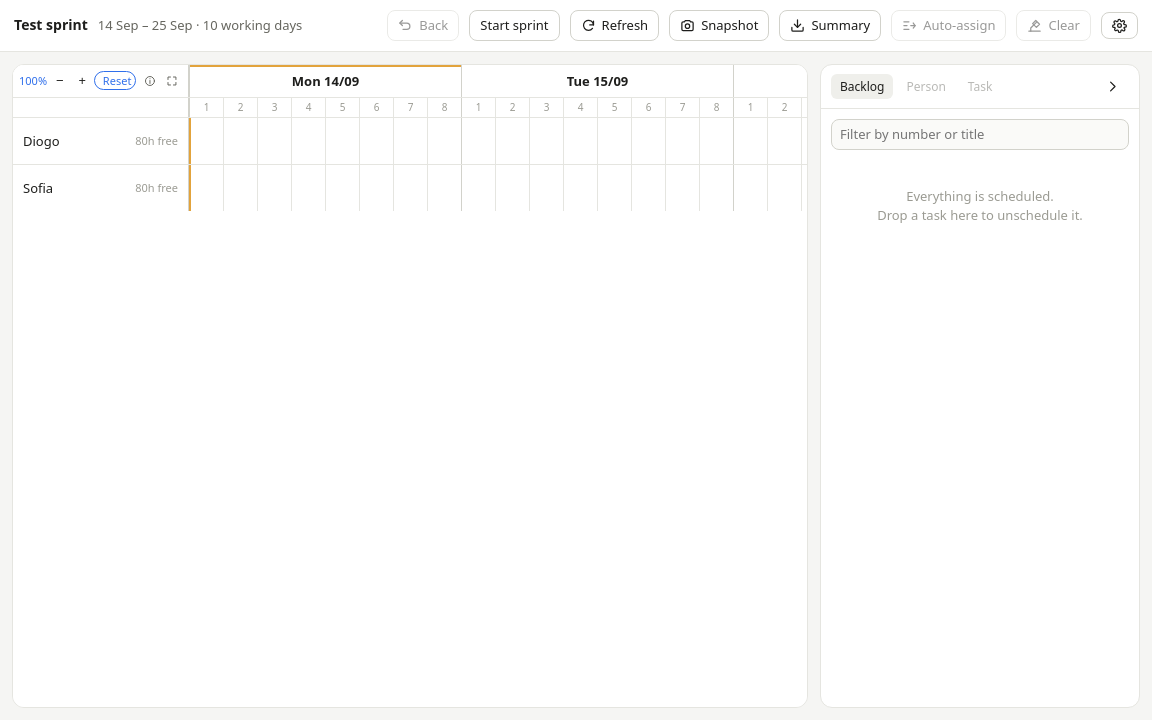
Test case: a refresh that fails › shows a ⚠ that opens the full details, and Copy details copies them
expect the text "Diogo" is shown: met, box 23,132 -> 60,151
Click the button "Refresh" at [614, 25], box 570,10 -> 659,41
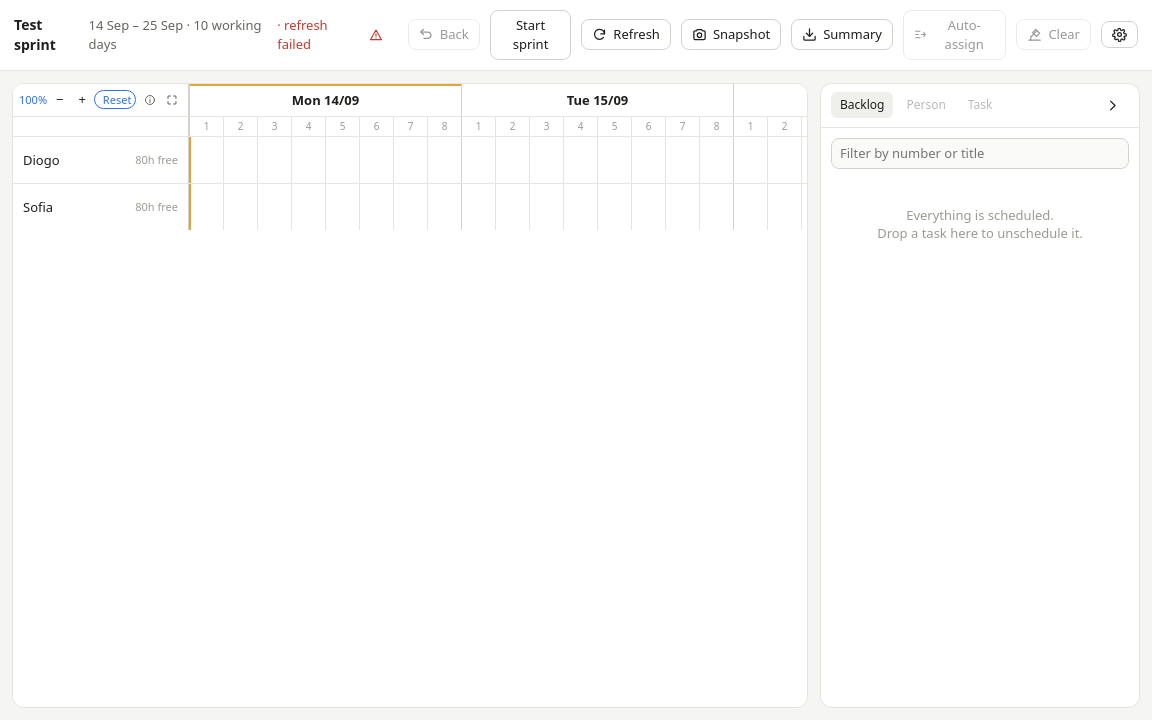
expect the text "· refresh failed" is shown: met, box 277,16 -> 328,53
Click the button named "Why the refresh failed" at [376, 35], box 364,25 -> 388,45
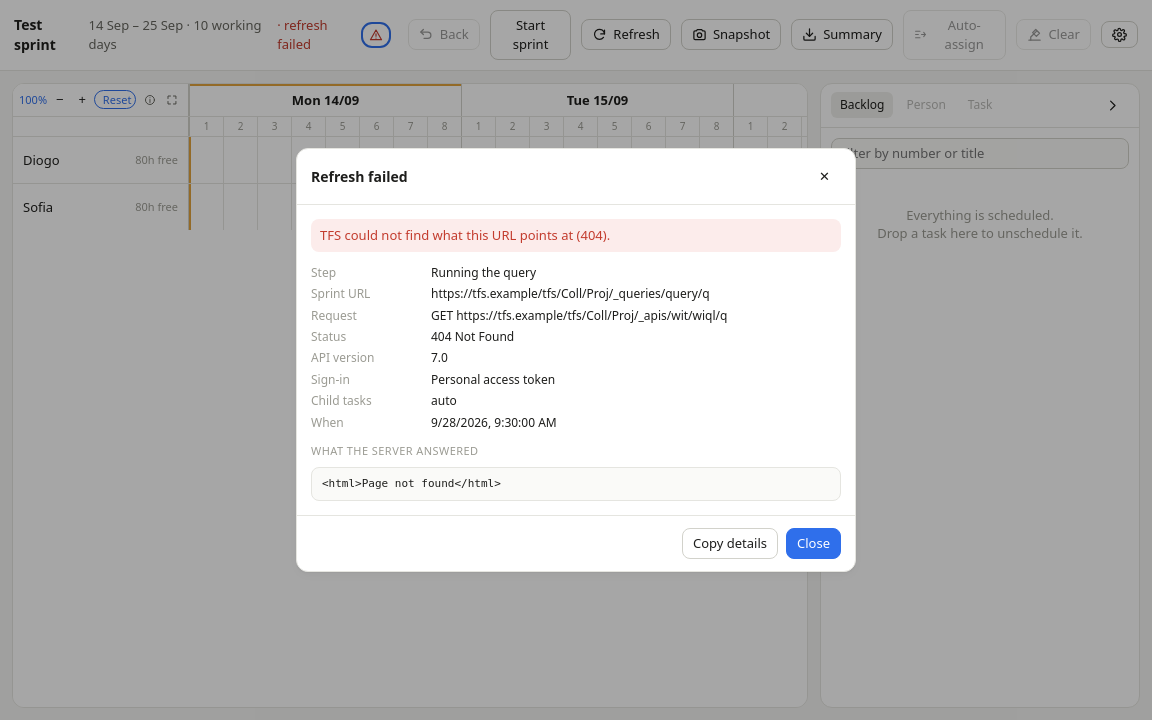
expect the text "TFS could not find what this URL points at (404)." is shown: met, box 311,219 -> 841,252
expect the text "Running the query" is shown: met, box 431,264 -> 536,281
expect the text "https://tfs.example/tfs/Coll/Proj/_queries/query/q" is shown: met, box 431,285 -> 710,302
Click the button "Copy details" at [730, 543], box 682,528 -> 778,559
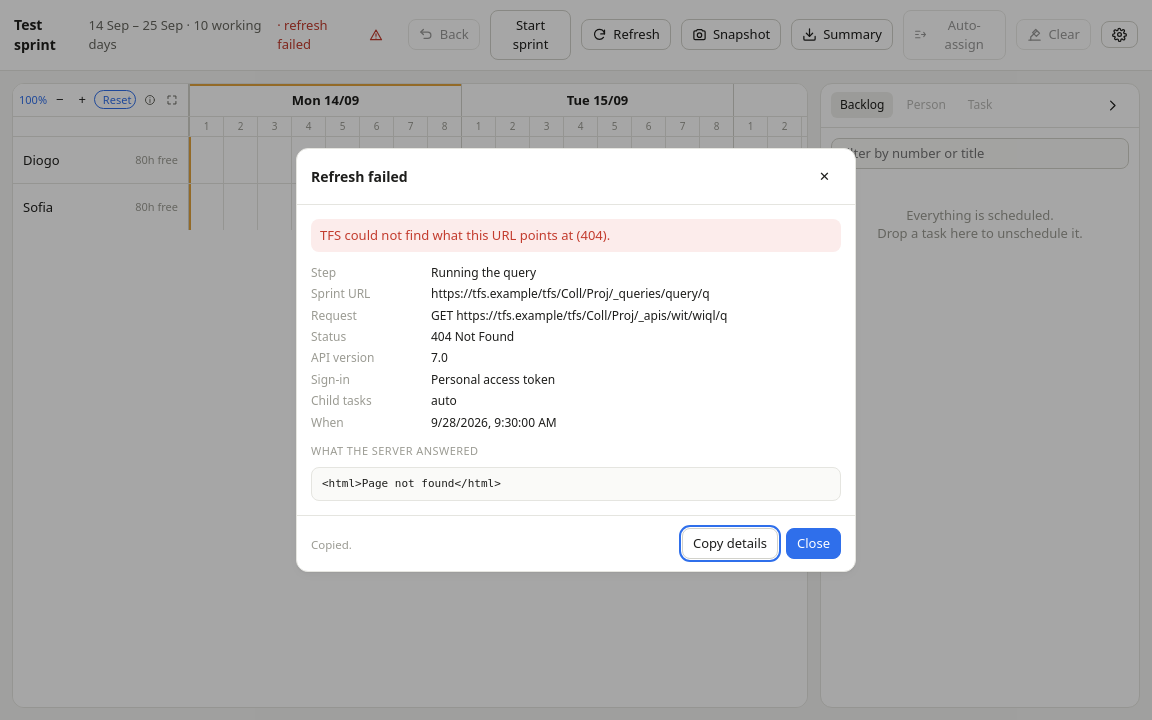
expect the message reads "Copied.": met, box 311,537 -> 352,552
